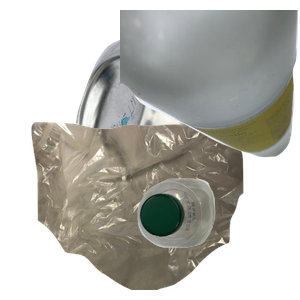glass: (120, 10, 300, 160)
metal: (73, 34, 285, 214)
plastic: (135, 176, 300, 300)
trash: (29, 120, 265, 300)
